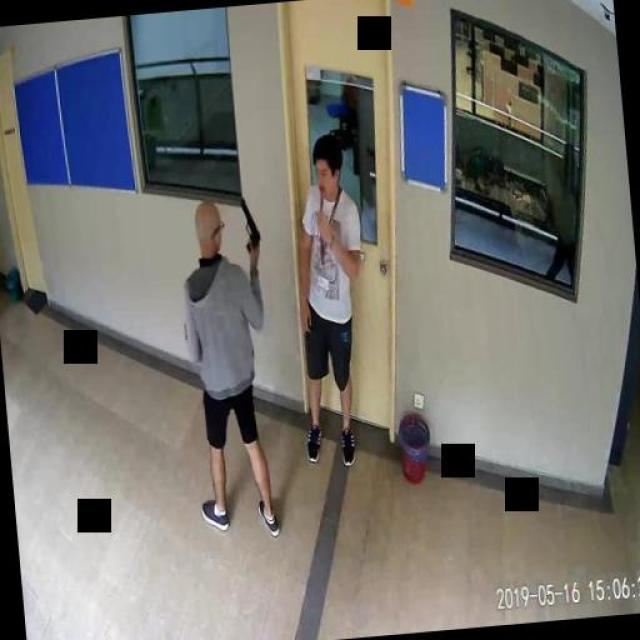gun: (239, 195, 260, 253)
